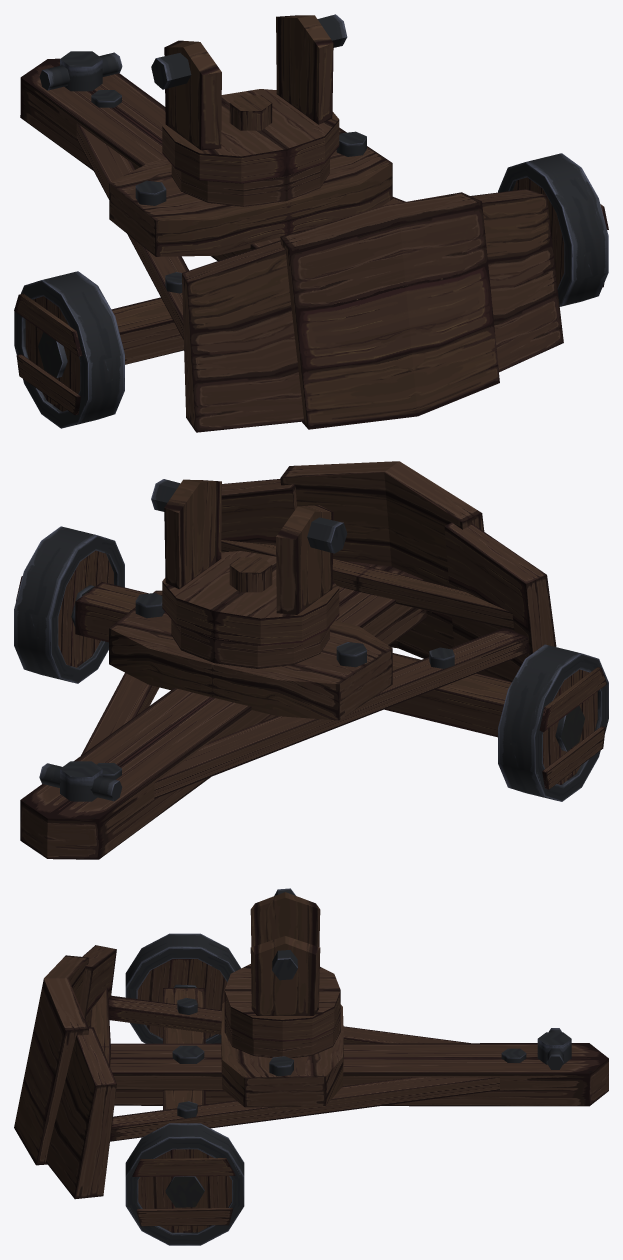
File: SM_PROP_ballista_battle.fbx
3 renders of one model, top to bottom at view 1: azimuth 30°, elevation 25°; view 2: azimuth 150°, elevation 25°; view 3: azimuth 270°, elevation 25°, orthographic. The views are drawn at different scales.
Parts seen in each view (by area): view 1: SM_PROP_ballista_battle, SM_PROP_ballista_part_battle, SM_PROP_ballista_wheel_R_front_battle, SM_PROP_ballista_wheel_L_front_battle; view 2: SM_PROP_ballista_battle, SM_PROP_ballista_part_battle, SM_PROP_ballista_wheel_R_front_battle, SM_PROP_ballista_wheel_L_front_battle; view 3: SM_PROP_ballista_battle, SM_PROP_ballista_part_battle, SM_PROP_ballista_wheel_L_front_battle, SM_PROP_ballista_wheel_R_front_battle.
Boxes of the visible parts, bbox=[...] form: SM_PROP_ballista_battle: bbox=[20, 51, 563, 432]; SM_PROP_ballista_part_battle: bbox=[151, 14, 347, 183]; SM_PROP_ballista_wheel_R_front_battle: bbox=[14, 271, 124, 428]; SM_PROP_ballista_wheel_L_front_battle: bbox=[498, 153, 608, 306]; SM_PROP_ballista_battle: bbox=[20, 461, 556, 859]; SM_PROP_ballista_part_battle: bbox=[151, 479, 347, 645]; SM_PROP_ballista_wheel_R_front_battle: bbox=[498, 644, 608, 801]; SM_PROP_ballista_wheel_L_front_battle: bbox=[14, 526, 124, 683]; SM_PROP_ballista_battle: bbox=[14, 945, 608, 1199]; SM_PROP_ballista_part_battle: bbox=[224, 888, 340, 1041]; SM_PROP_ballista_wheel_L_front_battle: bbox=[125, 1123, 244, 1245]; SM_PROP_ballista_wheel_R_front_battle: bbox=[125, 933, 241, 1043].
Bounding box in the file's own units: 250 × 127 × 302.
